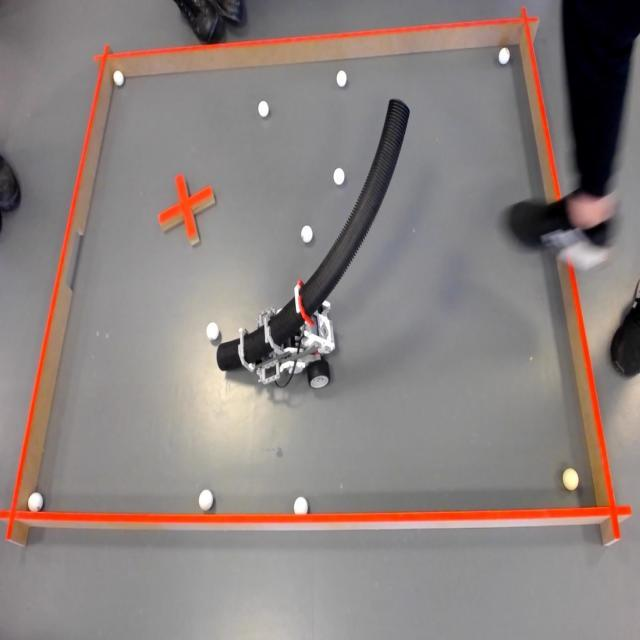robot: (214, 95, 412, 386)
white: (560, 465, 580, 494), (196, 488, 216, 514), (24, 491, 46, 514), (292, 494, 311, 520), (205, 320, 221, 342), (256, 98, 272, 119), (110, 69, 126, 90), (300, 223, 314, 244), (332, 166, 346, 187), (335, 68, 348, 89), (498, 45, 511, 66)
